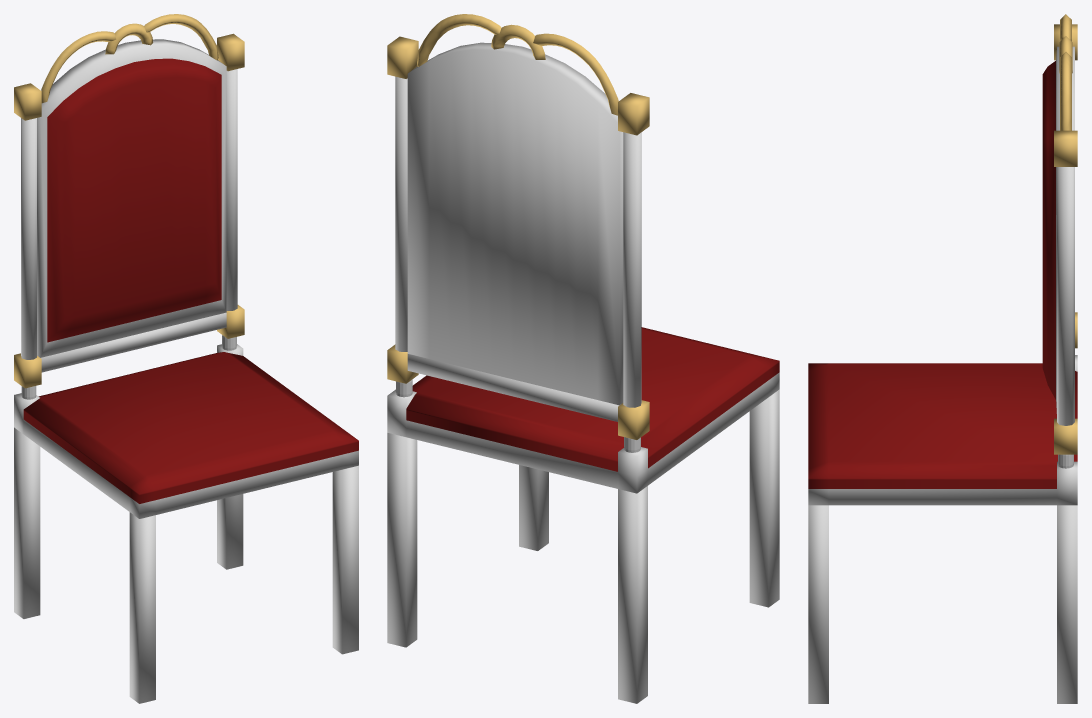
File: Chair.fbx
3 renders of one model, left to right at view 1: azimuth 30°, elevation 25°; view 2: azimuth 150°, elevation 25°; view 3: azimuth 270°, elevation 25°, orthographic. The views are drawn at different scales.
Visible parts, largest first — view 1: Cube.006, Cube.018, Cube.017, Cylinder.002, Cube.012, Cube.013, BezierCurve, Cube.014, Cube.015, BezierCircle; view 2: Cube.006, Cube.017, Cube.018, Cylinder.002, Cube.012, Cube.013, BezierCurve, Cube.014, Cube.015, BezierCircle; view 3: Cube.018, Cube.017, Cube.006, Cube.012, Cylinder.002, Cube.014, BezierCurve, Cube.015.
Boxes of the visible parts, <box> form: Cube.006: <box>37,39,226,357</box>; Cube.018: <box>23,352,358,503</box>; Cube.017: <box>14,427,358,703</box>; Cylinder.002: <box>21,69,237,359</box>; Cube.012: <box>14,344,358,518</box>; Cube.013: <box>41,312,226,372</box>; BezierCurve: <box>41,14,218,103</box>; Cube.014: <box>14,33,244,120</box>; Cube.015: <box>14,305,244,388</box>; BezierCircle: <box>105,23,153,54</box>; Cube.006: <box>407,42,623,405</box>; Cube.017: <box>387,389,779,703</box>; Cube.018: <box>406,327,779,471</box>; Cylinder.002: <box>395,76,641,407</box>; Cube.012: <box>387,372,779,493</box>; Cube.013: <box>407,354,619,421</box>; BezierCurve: <box>417,14,618,115</box>; Cube.014: <box>387,36,649,135</box>; Cube.015: <box>387,344,649,439</box>; BezierCircle: <box>491,24,545,59</box>; Cube.018: <box>808,363,1077,488</box>; Cube.017: <box>808,505,1077,703</box>; Cube.006: <box>1042,46,1074,413</box>; Cube.012: <box>808,355,1077,505</box>; Cylinder.002: <box>1057,167,1074,425</box>; Cube.014: <box>1054,24,1077,166</box>; BezierCurve: <box>1060,14,1071,130</box>; Cube.015: <box>1054,312,1077,454</box>.
Size of the model in its own units: 92 by 226 by 91.
